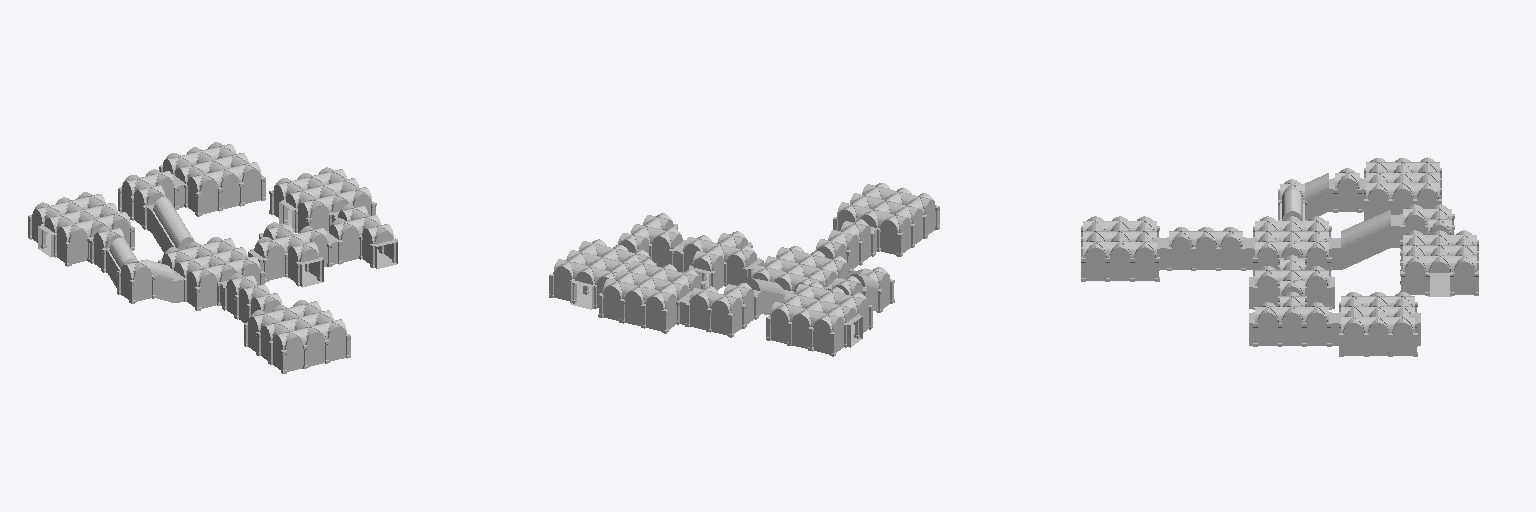
Rendered from dungeon.obj.
3 views of the same model, side by side, from view 1: azimuth 30°, elevation 25°; view 2: azimuth 150°, elevation 25°; view 3: azimuth 270°, elevation 25° (orthographic).
Visible parts, largest first — view 1: RoomCap_brickwall1_0, Room.I_brickwall1_0, Room.L_brickwall1_0, Room.T_brickwall1_0, Room.X_brickwall1_0, Hall.X_brickwall1_0, StairsL_brickwall1_0, Hall.T_brickwall1_0, Hall.L_brickwall1_0, HallI_brickwall1_0, Stairs_brickwall1_0, Room.L_stonetrims_0 (+8 smaller); view 2: Room.L_brickwall1_0, Room.I_brickwall1_0, RoomCap_brickwall1_0, Room.T_brickwall1_0, Hall.L_brickwall1_0, Hall.X_brickwall1_0, Room.X_brickwall1_0, Hall.T_brickwall1_0, HallI_brickwall1_0, Room.L_stonetrims_0, StairsL_brickwall1_0, Room.I_stonetrims_0 (+6 smaller); view 3: Room.T_brickwall1_0, RoomCap_brickwall1_0, Room.I_brickwall1_0, Room.L_brickwall1_0, Hall.T_brickwall1_0, HallI_brickwall1_0, Room.X_brickwall1_0, Hall.X_brickwall1_0, Stairs_brickwall1_0, StairsL_brickwall1_0, Room.X_stonetrims_0, RoomCap_stonetrims_0 (+9 smaller).
Part boxes in pixels (x1,y1,x2,y2): RoomCap_brickwall1_0: (244, 300, 350, 371); Room.I_brickwall1_0: (159, 143, 265, 214); Room.L_brickwall1_0: (28, 192, 134, 263); Room.T_brickwall1_0: (270, 168, 375, 232); Room.X_brickwall1_0: (162, 237, 264, 308); Hall.X_brickwall1_0: (254, 223, 331, 282); StairsL_brickwall1_0: (108, 239, 174, 302); Hall.T_brickwall1_0: (329, 205, 395, 264); Hall.L_brickwall1_0: (118, 170, 178, 225); HallI_brickwall1_0: (223, 274, 280, 322); Stairs_brickwall1_0: (152, 198, 194, 253); Room.L_stonetrims_0: (28, 192, 134, 266); Room.L_brickwall1_0: (766, 282, 872, 354); Room.I_brickwall1_0: (599, 260, 704, 331); RoomCap_brickwall1_0: (833, 183, 939, 254); Room.T_brickwall1_0: (549, 240, 650, 307); Hall.L_brickwall1_0: (685, 283, 757, 335); Hall.X_brickwall1_0: (679, 232, 756, 290); Room.X_brickwall1_0: (752, 246, 849, 291); Hall.T_brickwall1_0: (619, 214, 682, 266); HallI_brickwall1_0: (817, 220, 874, 268); Room.L_stonetrims_0: (766, 282, 872, 356); StairsL_brickwall1_0: (842, 267, 893, 311); Room.I_stonetrims_0: (598, 259, 705, 333); Room.T_brickwall1_0: (1335, 292, 1416, 355); RoomCap_brickwall1_0: (1081, 217, 1158, 280); Room.I_brickwall1_0: (1401, 231, 1478, 294); Room.L_brickwall1_0: (1364, 158, 1441, 219); Hall.T_brickwall1_0: (1253, 292, 1330, 345); HallI_brickwall1_0: (1167, 227, 1244, 269); Room.X_brickwall1_0: (1253, 217, 1330, 275); Hall.X_brickwall1_0: (1253, 256, 1330, 306); Stairs_brickwall1_0: (1341, 210, 1390, 269); StairsL_brickwall1_0: (1278, 173, 1328, 220); Room.X_stonetrims_0: (1249, 216, 1334, 270); RoomCap_stonetrims_0: (1081, 216, 1162, 281).
Bounding box in the file's own units: 56.4 × 10 × 64.8.